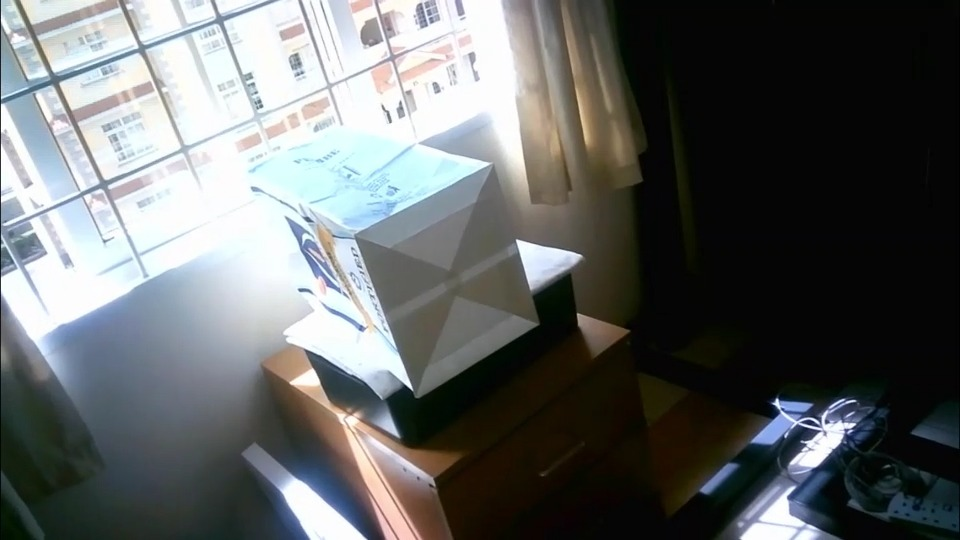wheat_flour_blue_label: (247, 130, 539, 394)
